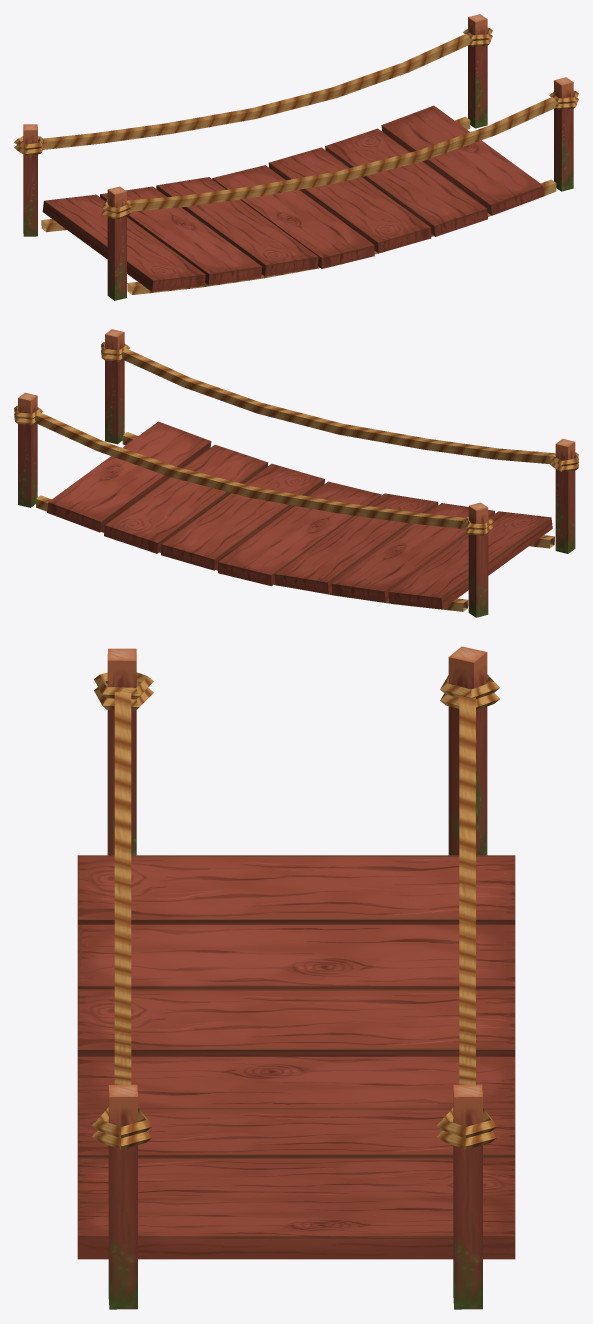
File: bridge.fbx
The picture shows the model from 3 angles, top to bottom: view 1: azimuth 30°, elevation 25°; view 2: azimuth 150°, elevation 25°; view 3: azimuth 270°, elevation 25°; orthographic projection. The views are drawn at different scales.
Parts seen in each view (by area): view 1: Cube.026; view 2: Cube.026; view 3: Cube.026.
Part boxes in pixels (x1,y1,x2,y2): Cube.026: [14, 14, 578, 300]; Cube.026: [14, 329, 578, 617]; Cube.026: [77, 646, 515, 1309].
Size of the model in its own units: 423 by 107 by 168.
